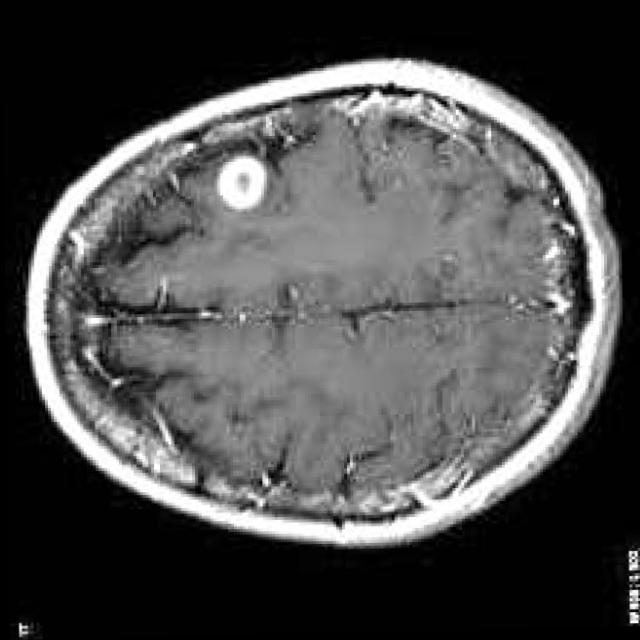Tumor: (215, 147, 269, 215)
